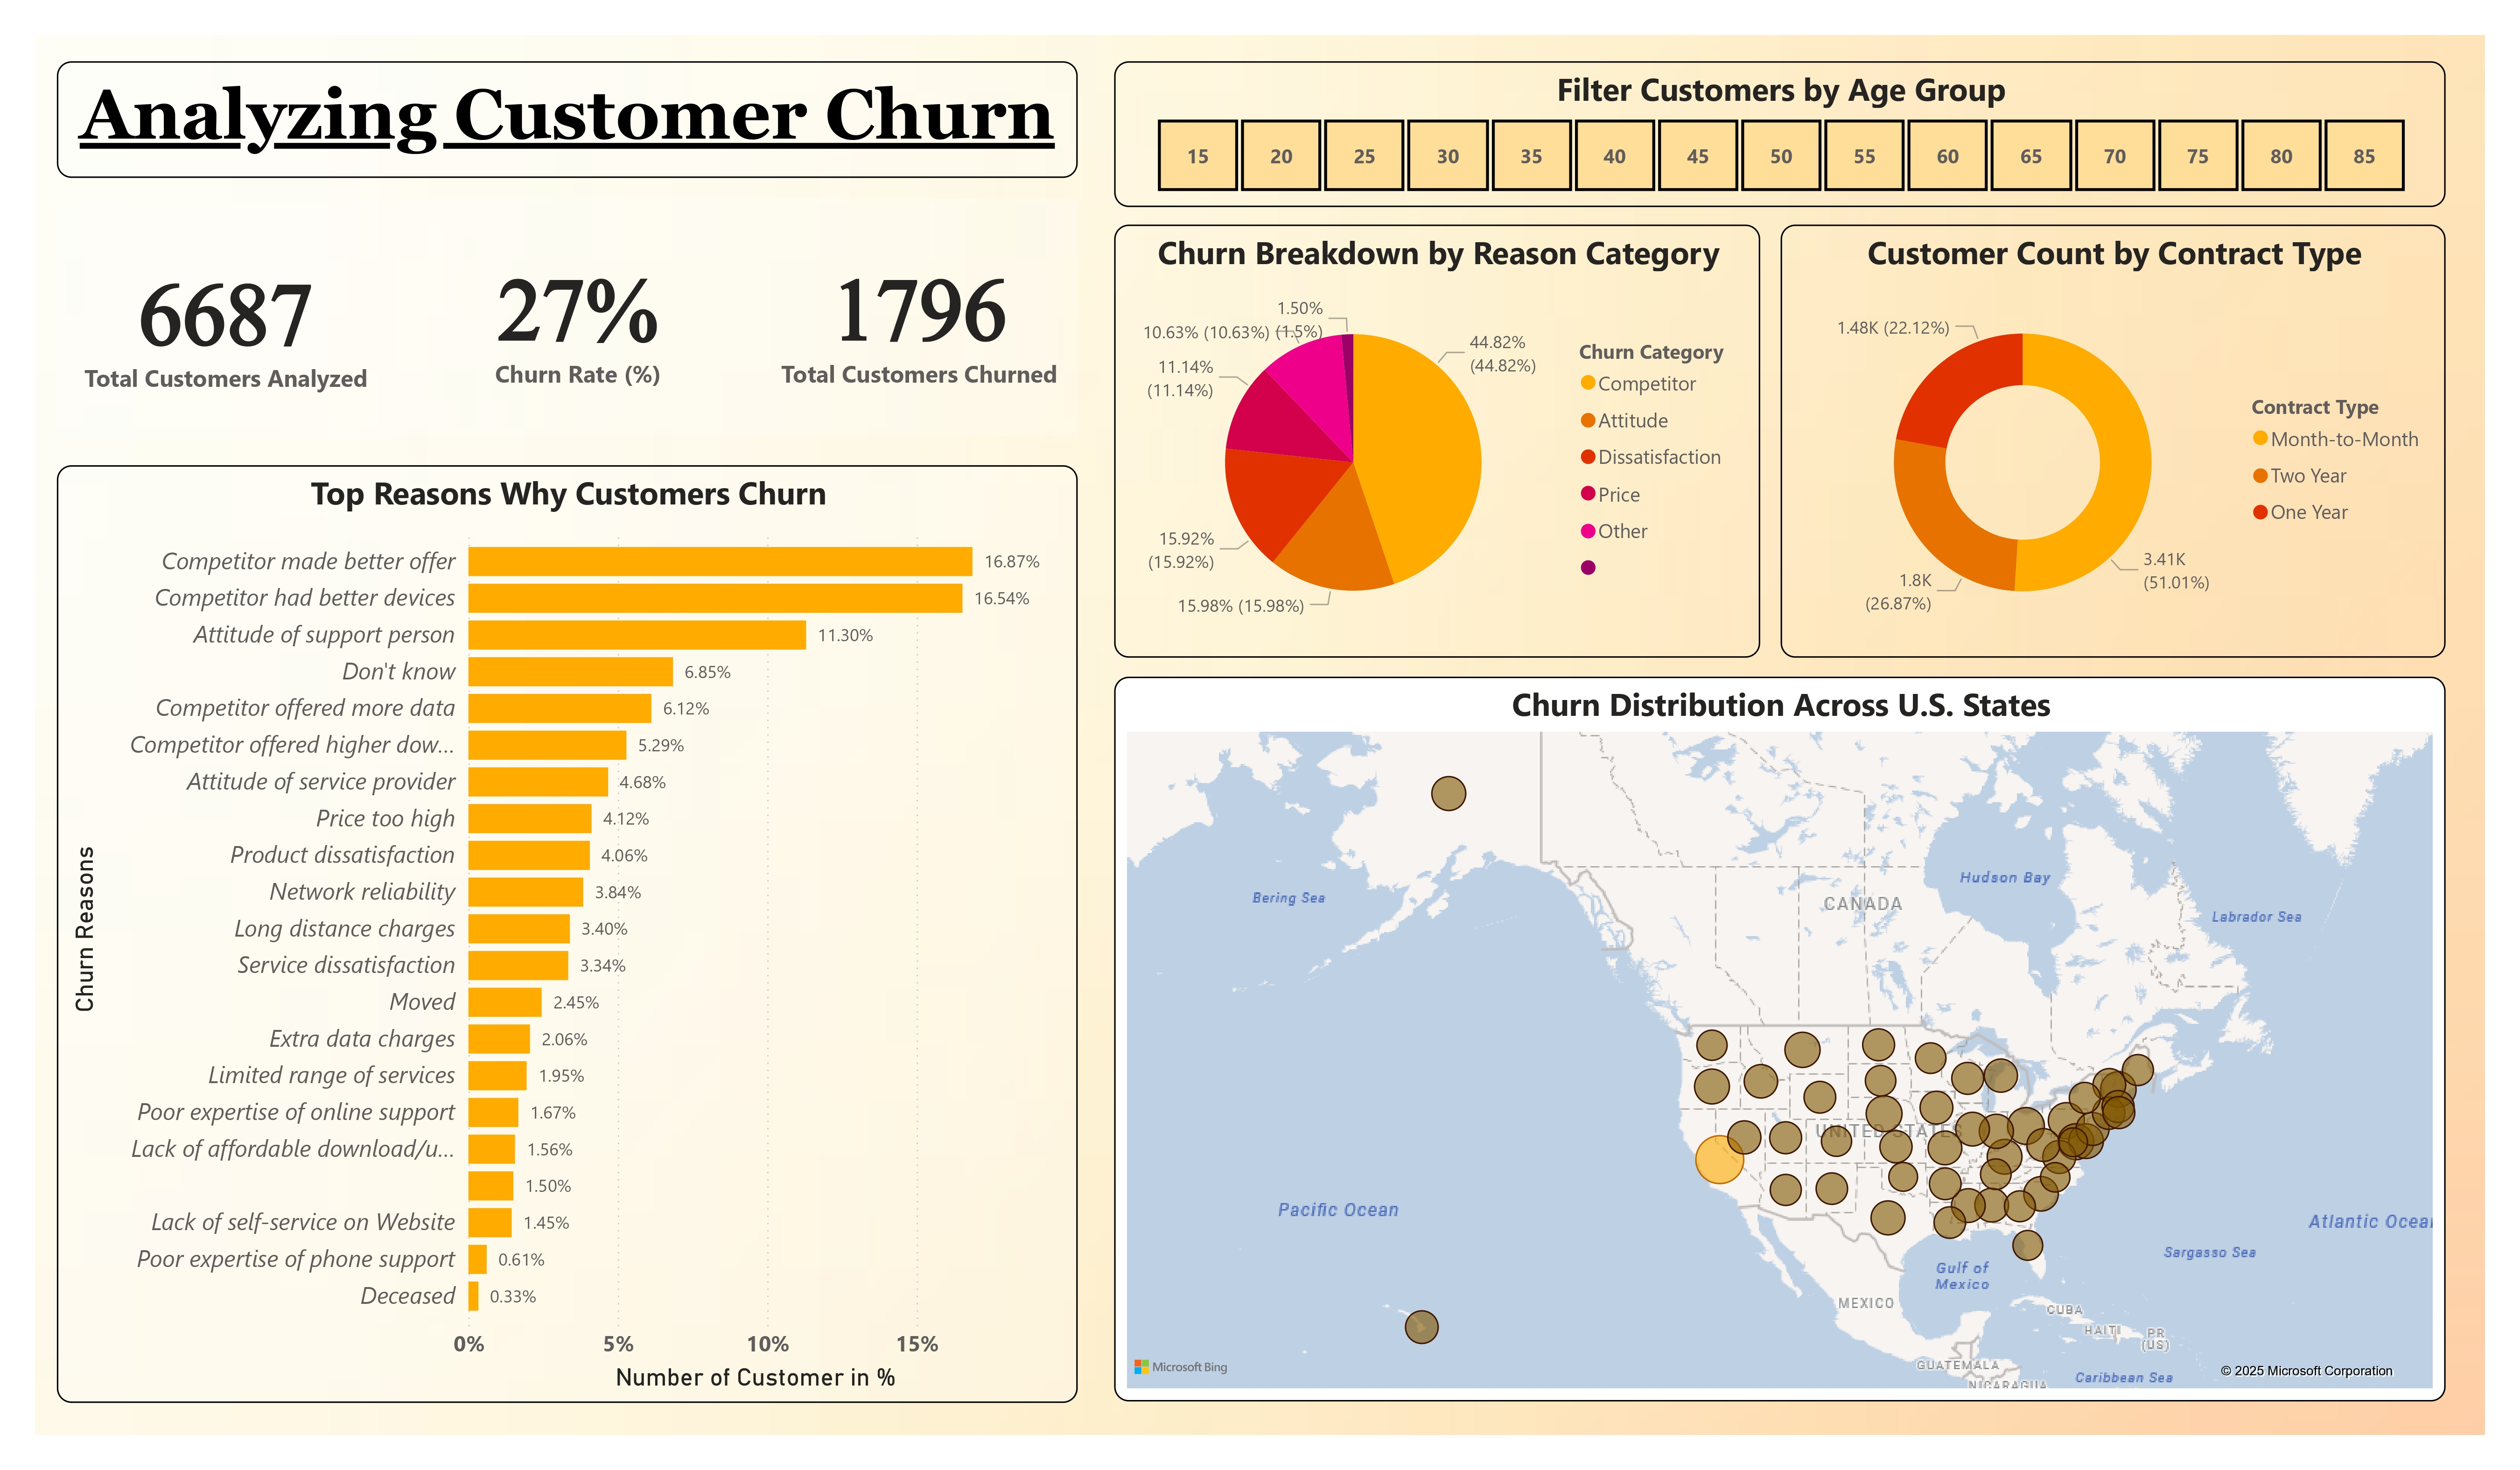

Layout of this report page (visuals, bound fields, positions):
{"tool":"powerbi","page":{"name":"Final Dashboard","canvas":[1680,960],"ordinal":0},"visuals":[{"type":"card","fields":{"Values":["Databel - Data.Churn Rate"]},"box":[246.7,111.7,251.7,163.3],"z":0},{"type":"clusteredBarChart","title":"Top Reasons Why Customers Churn","fields":{"Category":["Databel - Data.Churn Reason"],"Y":["CountNonNull(Databel - Data.Number of Customers in Group)"]},"box":[15,295,700,643.3],"z":1},{"type":"donutChart","title":"Customer Count by Contract Type","fields":{"Y":["Count(Databel - Data.Customer ID)"],"Category":["Databel - Data.Contract Type"]},"box":[1196.7,130,456.7,296.7],"z":2},{"type":"pieChart","title":"Churn Breakdown by Reason Category","fields":{"Category":["Databel - Data.Churn Category"],"Y":["CountNonNull(Databel - Data.Churn Label)"]},"box":[740,130,443.3,296.7],"z":3},{"type":"textbox","box":[15.1,18.1,699.5,79.9],"z":4},{"type":"slicer","title":"Filter Customers by Age Group","fields":{"Values":["Databel - Data.Age (bins)"]},"box":[740,18.3,913.3,100],"z":5},{"type":"map","title":"Churn Distribution Across U.S. States","fields":{"Size":["Databel - Data.Churn Rate"],"Category":["Databel - Data.State"]},"box":[740,440,913.3,496.7],"z":6},{"type":"card","fields":{"Values":["Sum(Databel - Data.Churn Rate (%))"]},"box":[498.3,111.7,216.7,163.3],"z":7},{"type":"card","fields":{"Values":["Databel - Data.Total Customers Analyzed"]},"box":[15,115,231.7,163.3],"z":8}]}

Visuals, with their boxes in screenshot pixels (x1, y1, x2, y2):
card - Databel - Data.Churn Rate: region(395, 198, 762, 436)
"Top Reasons Why Customers Churn" clusteredBarChart: region(57, 465, 1078, 1403)
"Customer Count by Contract Type" donutChart: region(1780, 224, 2446, 657)
"Churn Breakdown by Reason Category" pieChart: region(1114, 224, 1761, 657)
textbox: region(57, 62, 1077, 178)
"Filter Customers by Age Group" slicer: region(1114, 62, 2446, 208)
"Churn Distribution Across U.S. States" map: region(1114, 677, 2446, 1401)
card - Sum(Databel - Data.Churn Rate (%)): region(762, 198, 1078, 436)
card - Databel - Data.Total Customers Analyzed: region(57, 203, 395, 441)
